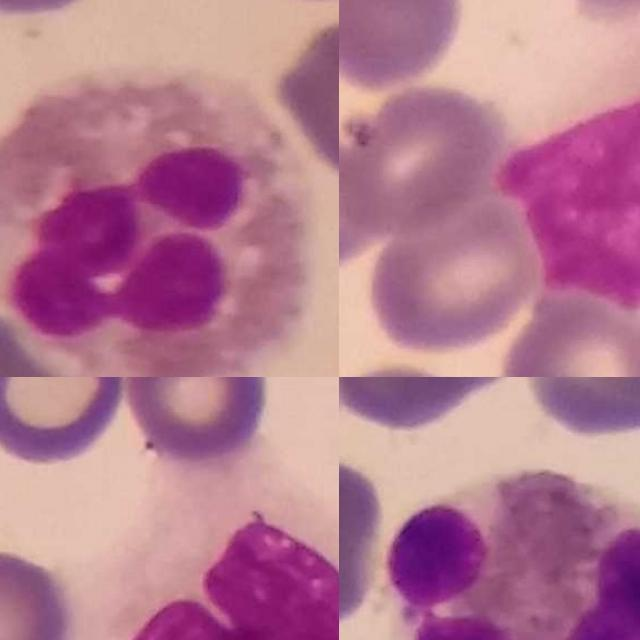Eosinophil: (0, 62, 316, 377), (386, 469, 640, 640)
Monocyte: (500, 21, 640, 309), (100, 485, 339, 640)
